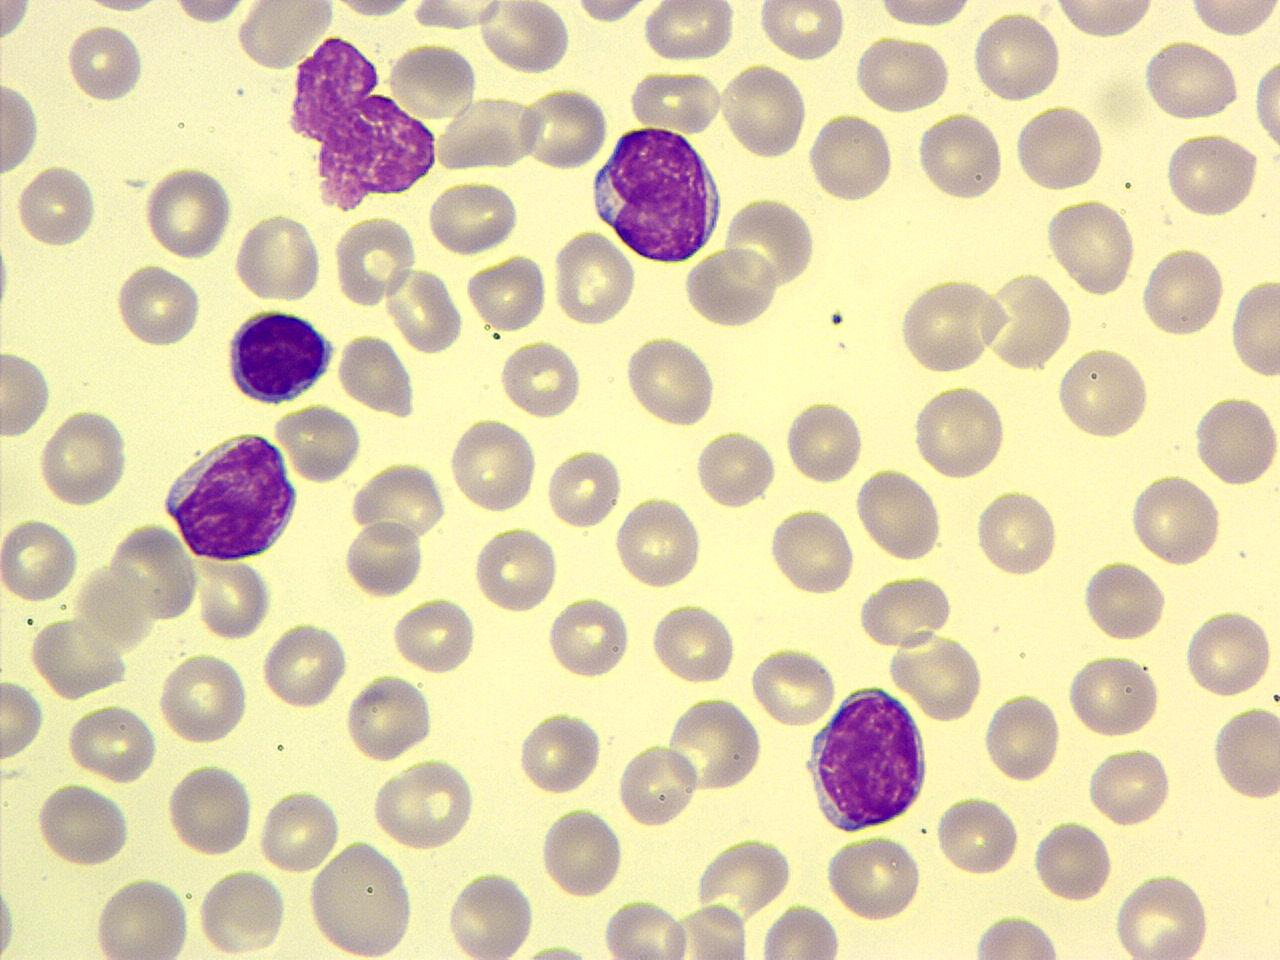RBC: (306, 838, 417, 960), (894, 275, 1002, 376), (370, 757, 478, 853), (720, 191, 820, 294), (664, 694, 765, 794), (1043, 194, 1139, 299), (910, 382, 1010, 482), (980, 268, 1074, 374), (1053, 343, 1151, 444), (36, 407, 131, 509), (1127, 470, 1225, 568), (822, 831, 924, 925), (1111, 868, 1215, 960), (141, 162, 237, 261), (694, 832, 794, 927), (622, 332, 718, 430), (110, 519, 198, 625), (886, 628, 984, 723), (447, 415, 539, 515), (854, 464, 944, 566), (970, 7, 1064, 104), (719, 62, 811, 161), (612, 493, 704, 592), (164, 760, 256, 858), (157, 648, 249, 746), (92, 872, 194, 960), (232, 210, 324, 307), (1137, 243, 1227, 342), (551, 226, 638, 328), (444, 866, 538, 960), (1182, 606, 1276, 700), (1012, 101, 1106, 195), (914, 108, 1006, 204), (1065, 650, 1163, 740), (1162, 131, 1262, 219), (26, 615, 129, 700), (350, 458, 450, 544), (1142, 36, 1240, 123), (768, 504, 858, 598), (806, 111, 894, 207), (34, 780, 130, 868), (332, 212, 417, 311), (196, 866, 289, 956), (113, 260, 206, 350), (470, 522, 560, 615), (538, 804, 626, 899), (345, 672, 435, 764), (974, 485, 1060, 580), (517, 85, 609, 173), (1193, 392, 1277, 488), (514, 708, 604, 797), (260, 619, 348, 710), (980, 690, 1063, 786), (854, 32, 951, 114), (1079, 556, 1169, 644), (684, 246, 778, 330), (855, 572, 956, 650), (388, 38, 480, 123), (426, 177, 522, 258), (934, 792, 1022, 880), (275, 399, 364, 486), (650, 599, 737, 688), (63, 702, 158, 783), (1086, 743, 1174, 830), (783, 395, 865, 488), (748, 644, 838, 728), (256, 786, 340, 876), (14, 162, 100, 249), (545, 594, 630, 681), (616, 740, 698, 830), (383, 264, 465, 353), (694, 426, 778, 512), (0, 515, 80, 605), (192, 554, 275, 640), (336, 330, 416, 419), (1210, 703, 1280, 804), (498, 337, 583, 420), (1030, 818, 1112, 904), (475, 1, 571, 74), (544, 446, 624, 532), (390, 595, 476, 675), (464, 252, 548, 333), (65, 21, 146, 105), (343, 518, 425, 598), (627, 68, 723, 133), (598, 898, 694, 960), (640, 1, 736, 62), (756, 0, 847, 62), (1228, 273, 1280, 380), (0, 345, 55, 440), (758, 901, 843, 960), (1048, 0, 1162, 41), (968, 912, 1066, 958), (0, 75, 43, 179), (0, 677, 46, 764), (405, 0, 514, 35), (1183, 0, 1280, 39), (870, 0, 980, 32), (1250, 48, 1280, 160), (164, 0, 254, 26), (570, 0, 656, 26), (0, 0, 33, 47)
WBC: (280, 32, 444, 213), (158, 425, 306, 563), (802, 683, 934, 834), (590, 123, 728, 266), (222, 306, 338, 408)
